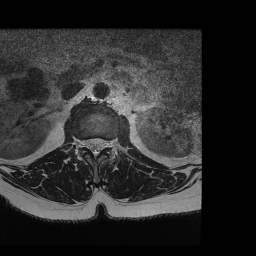CCS_normal: (91, 131, 99, 163)
LFS_normal: (106, 131, 113, 156)
LLS_normal: (99, 130, 106, 156)
RFS_normal: (78, 131, 85, 153)
RLS_normal: (85, 132, 91, 156)
